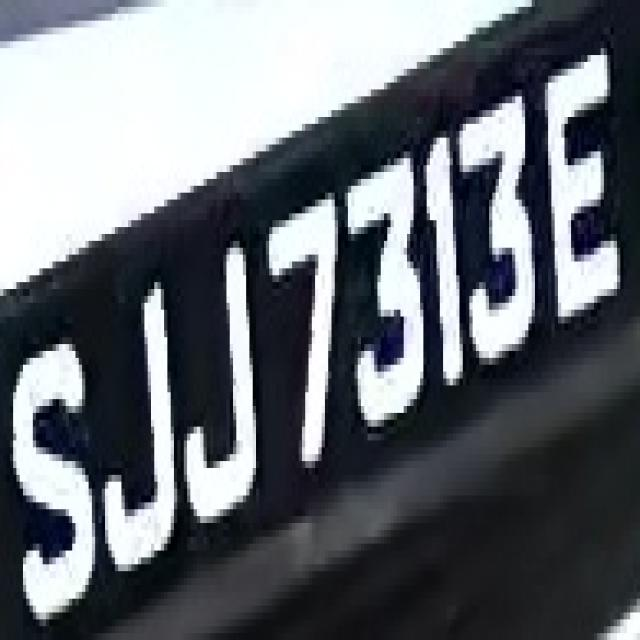1: (414, 117, 466, 413)
3: (328, 158, 427, 440), (450, 96, 538, 378)
7: (256, 179, 351, 495)
E: (538, 35, 627, 338)
J: (174, 213, 263, 558), (92, 261, 180, 592)
S: (13, 316, 105, 640)
